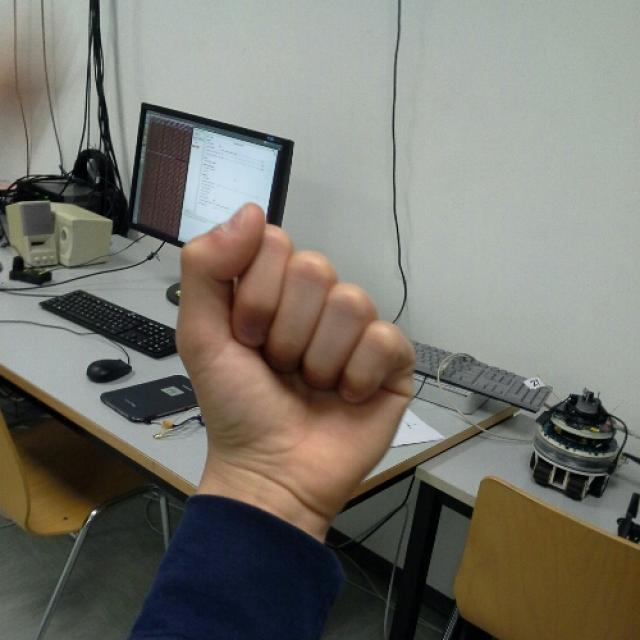rock: (178, 200, 416, 488)
